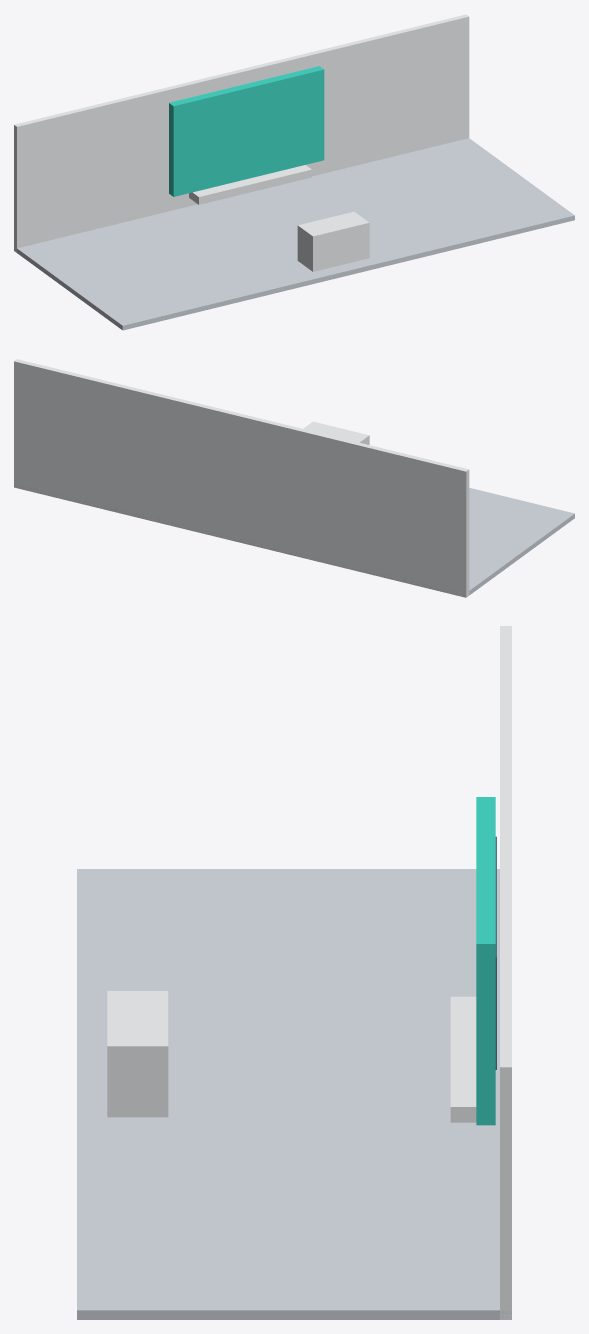
3 renders of one model, top to bottom at view 1: azimuth 30°, elevation 25°; view 2: azimuth 150°, elevation 25°; view 3: azimuth 270°, elevation 25°, orthographic. The views are drawn at different scales.
Visible parts, largest first — view 1: Exhibition Booth Concept; view 2: Exhibition Booth Concept; view 3: Exhibition Booth Concept.
Boxes of the visible parts, box(x1,y1,x2,y2) form: Exhibition Booth Concept: box(14, 14, 574, 330); Exhibition Booth Concept: box(14, 359, 574, 597); Exhibition Booth Concept: box(77, 626, 511, 1319).
Size of the model in its own units: 12 by 3.2 by 5.
